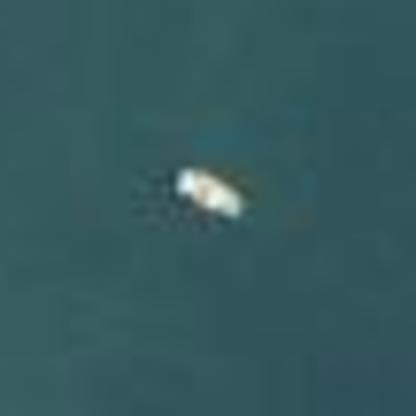ship: (154, 154, 264, 233)
